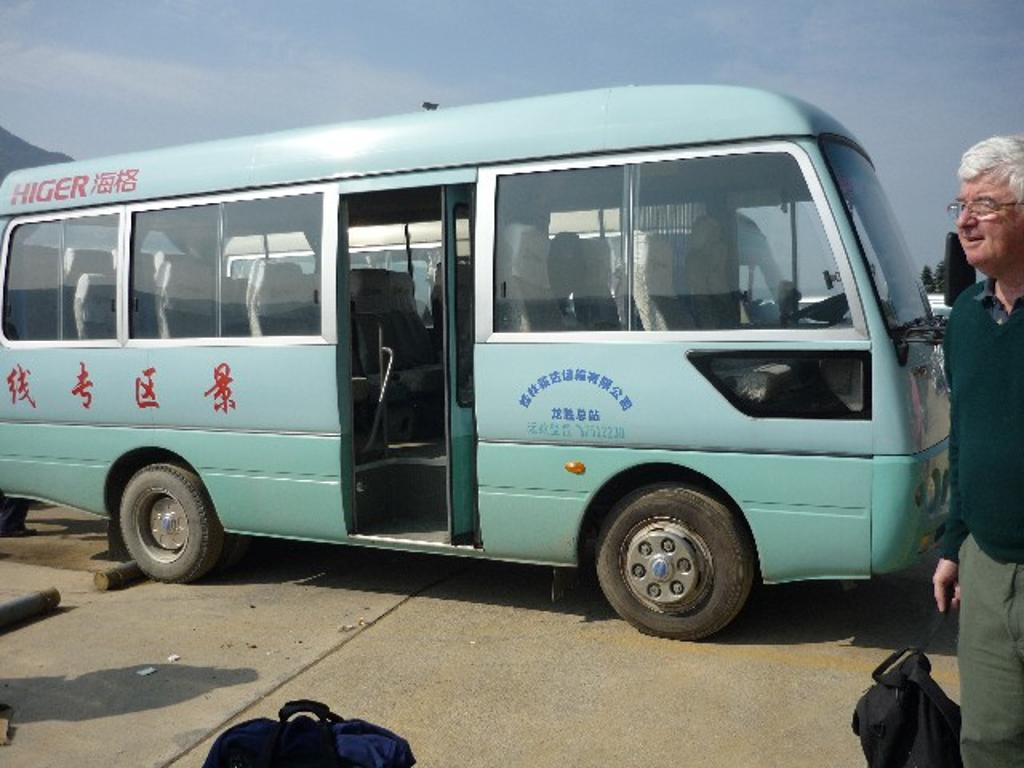face: (948, 156, 1018, 268)
